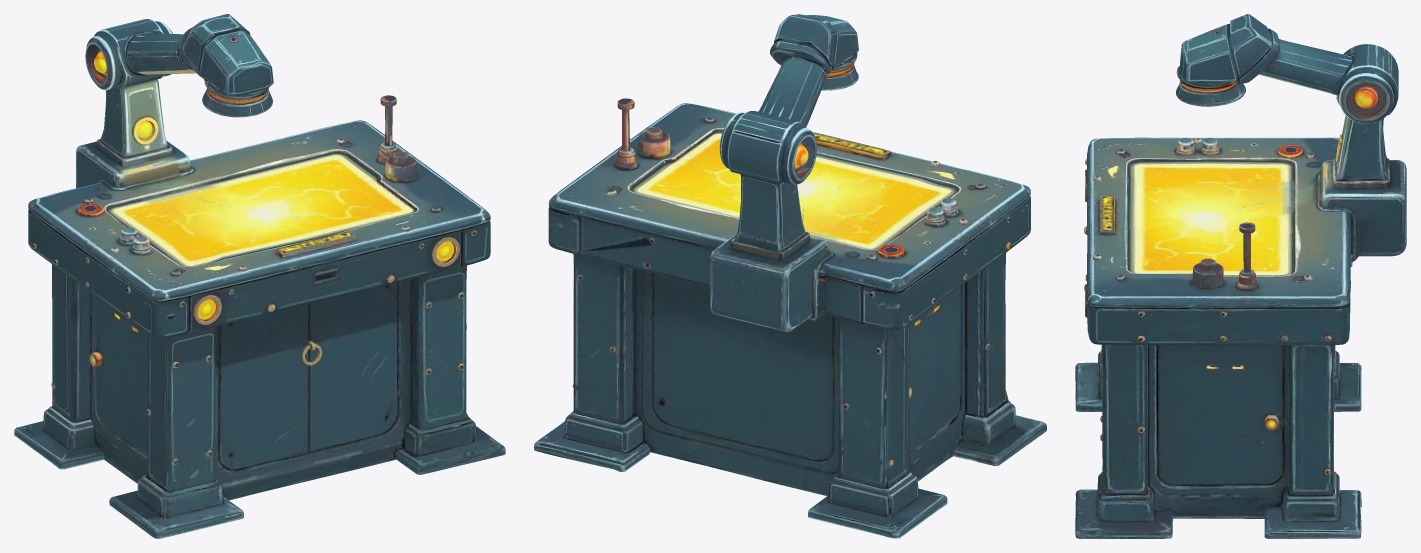
File: fur-workbench.glb
3 renders of one model, left to right at view 1: azimuth 30°, elevation 25°; view 2: azimuth 150°, elevation 25°; view 3: azimuth 270°, elevation 25°, orthographic. The views are drawn at different scales.
Parts seen in each view (by area): view 1: Mesh_0; view 2: Mesh_0; view 3: Mesh_0.
Part boxes in pixels (box(x1,y1,x2,y2)): Mesh_0: box(14, 14, 505, 538); Mesh_0: box(534, 14, 1046, 538); Mesh_0: box(1075, 14, 1406, 538).
Size of the model in its own units: 1.64 by 1.9 by 1.35.
1 material, 1 textured.
